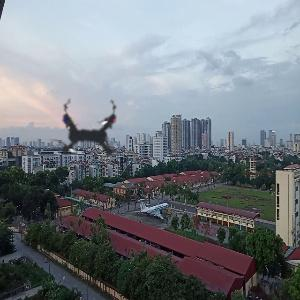drone: (18, 66, 155, 203)
